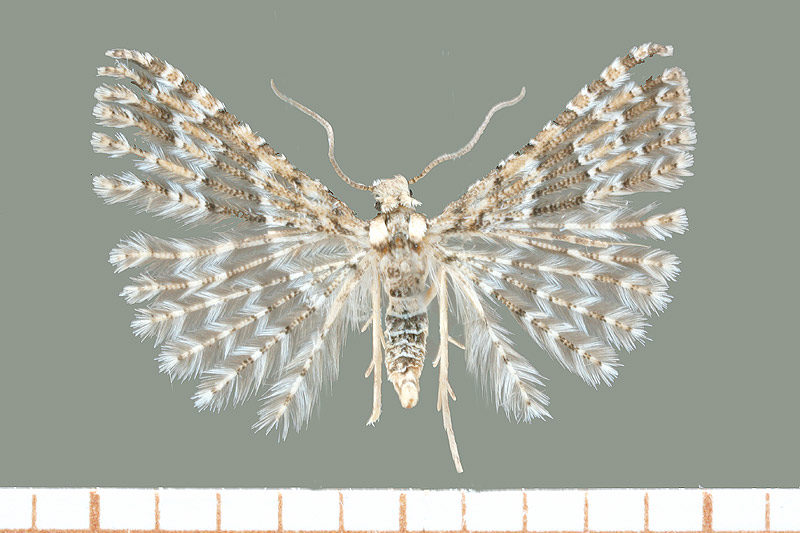Alucitidae: (81, 39, 712, 486)
moth: (79, 37, 710, 484)
